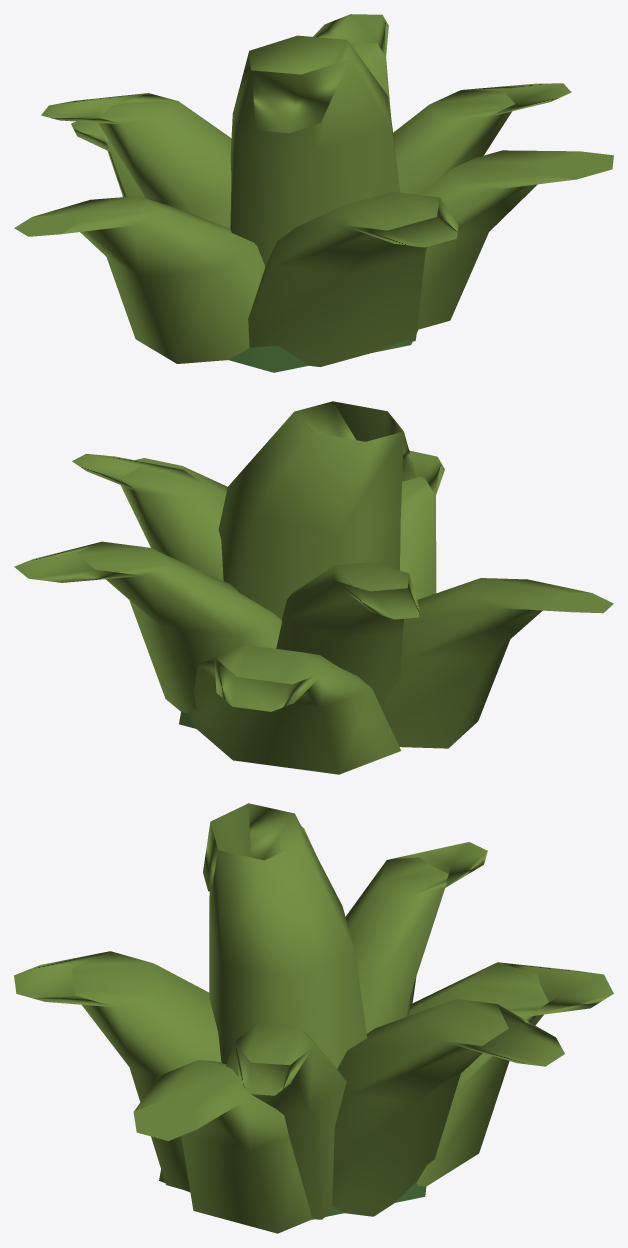
Rendered from gf_clump_hero_b.glb.
3 renders of one model, top to bottom at view 1: azimuth 30°, elevation 25°; view 2: azimuth 150°, elevation 25°; view 3: azimuth 270°, elevation 25°, orthographic. The views are drawn at different scales.
Visible parts, largest first — view 1: gf_clump_hero_b; view 2: gf_clump_hero_b; view 3: gf_clump_hero_b.
Boxes of the visible parts, x1,y1,x2,y2 form: gf_clump_hero_b: (14,14,613,372); gf_clump_hero_b: (14,401,613,774); gf_clump_hero_b: (14,803,613,1233).
Bounding box in the file's own units: 0.3857 × 0.1854 × 0.3241.
